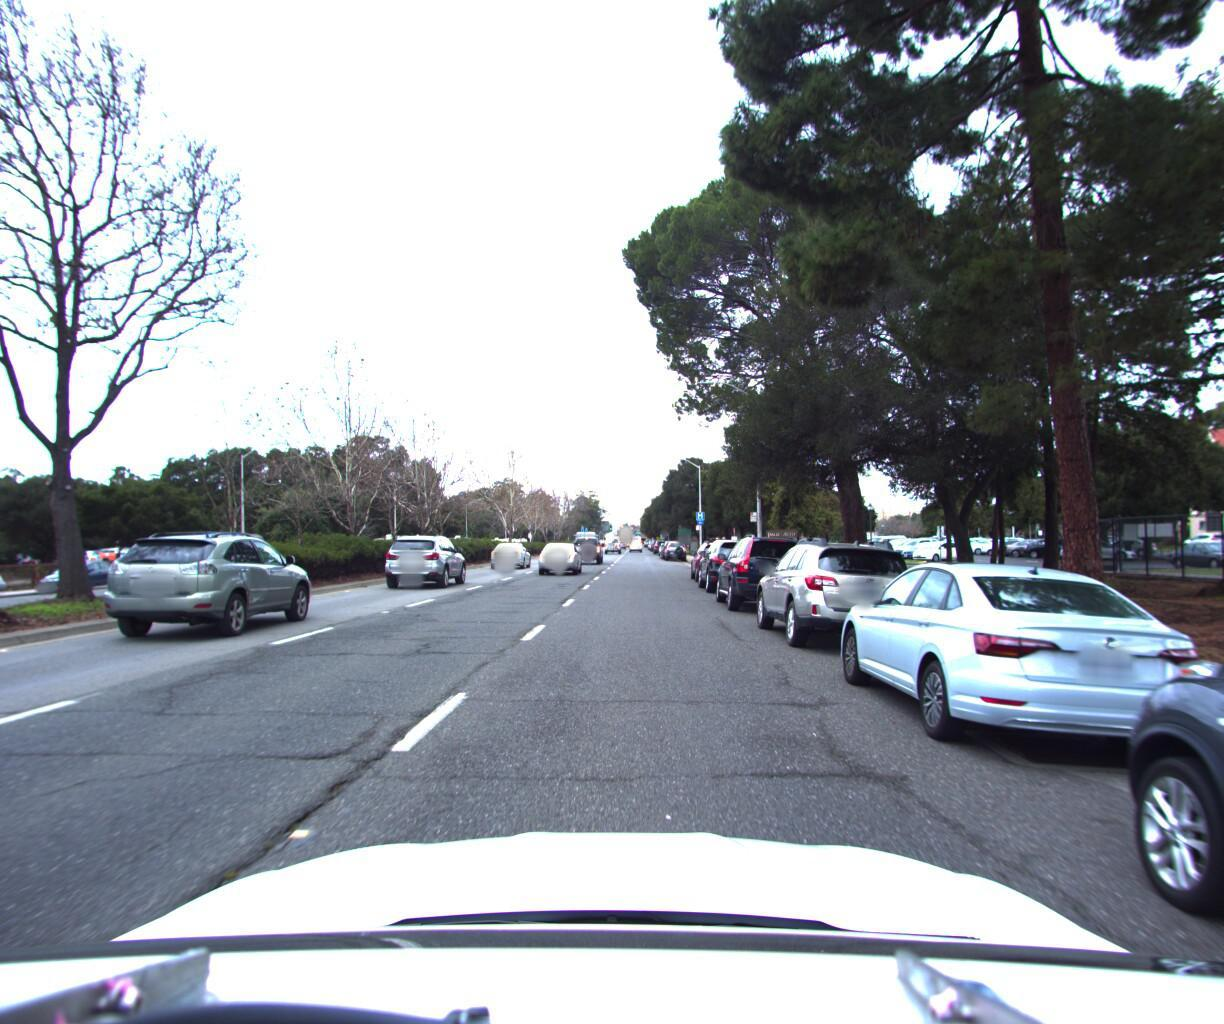car: (824, 547, 1224, 771), (1061, 545, 1224, 1024), (89, 521, 323, 641), (750, 527, 926, 653), (711, 524, 822, 607), (378, 530, 469, 585), (693, 531, 773, 591), (38, 558, 134, 592), (687, 533, 744, 578), (532, 535, 584, 570), (491, 538, 533, 567), (569, 527, 604, 559), (0, 561, 14, 608), (661, 533, 685, 554)
other_vehicle: (185, 528, 270, 560), (375, 528, 409, 551)
